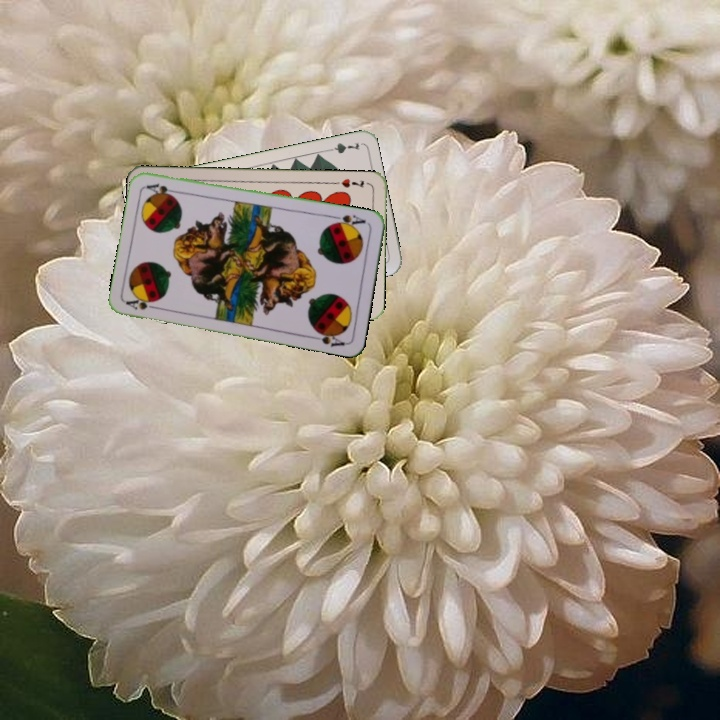G7: (321, 138, 362, 156)
H7: (337, 174, 366, 190)
SA: (328, 211, 368, 231), (122, 293, 163, 312)
